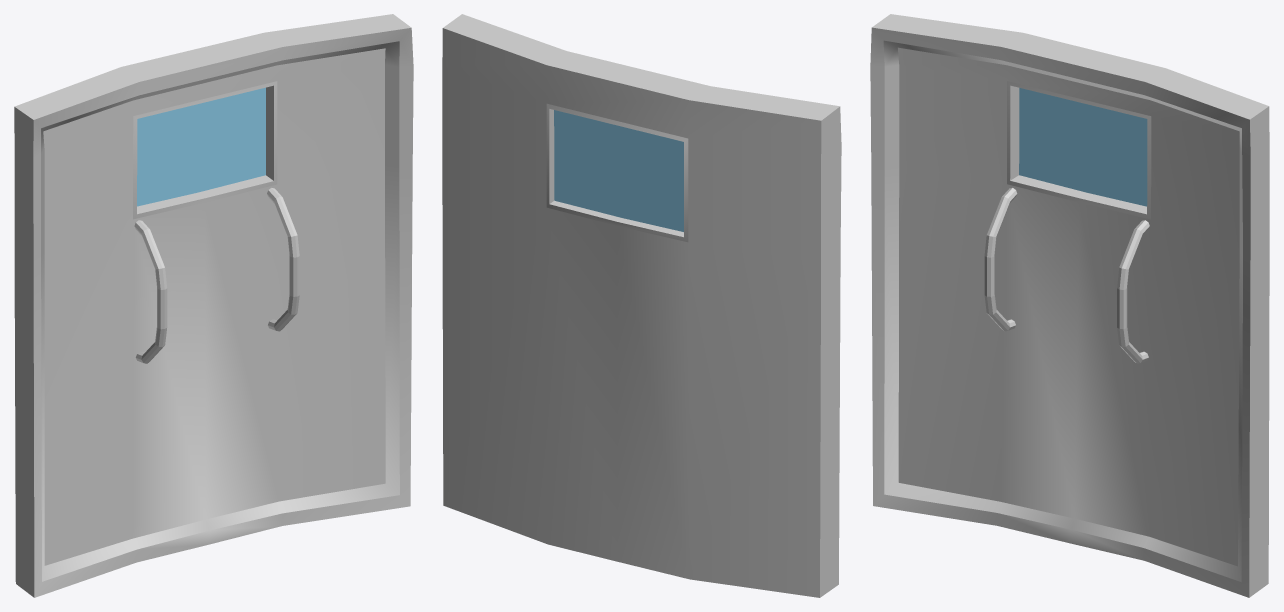
File: Shield_low.fbx
3 views of the same model, side by side, from view 1: azimuth 30°, elevation 25°; view 2: azimuth 150°, elevation 25°; view 3: azimuth 330°, elevation 25° (orthographic).
Parts seen in each view (by area): view 1: Shield_low, Glass_low, Handles_low; view 2: Shield_low, Glass_low; view 3: Shield_low, Glass_low, Handles_low.
Part boxes in pixels (left/top/right/bottom): Shield_low: left=14, top=14, right=413, bottom=597; Glass_low: left=137, top=87, right=265, bottom=206; Handles_low: left=134, top=188, right=299, bottom=363; Shield_low: left=442, top=14, right=841, bottom=597; Glass_low: left=554, top=110, right=683, bottom=231; Shield_low: left=870, top=14, right=1269, bottom=597; Glass_low: left=1019, top=88, right=1147, bottom=206; Handles_low: left=984, top=188, right=1149, bottom=363.
Size of the model in its own units: 85.78 by 103 by 16.14.
